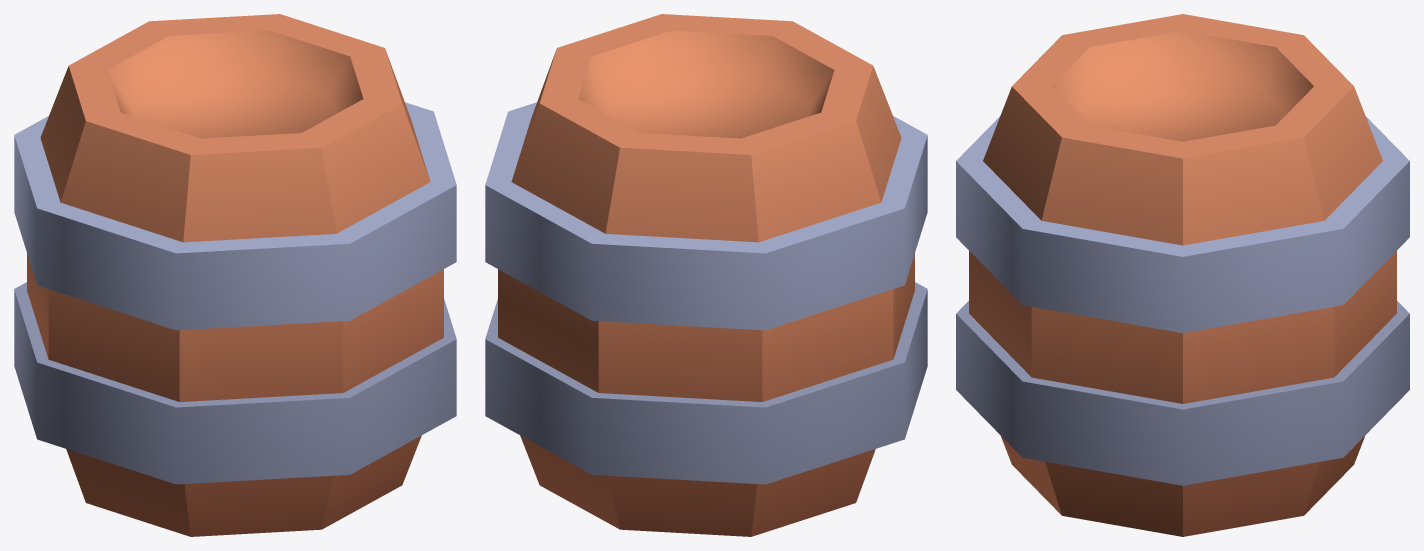
File: barrel.glb
3 renders of one model, left to right at view 1: azimuth 30°, elevation 25°; view 2: azimuth 150°, elevation 25°; view 3: azimuth 270°, elevation 25°, orthographic.
Visible parts, largest first — view 1: barrel; view 2: barrel; view 3: barrel.
Part boxes in pixels (x1,y1,x2,y2): barrel: (14, 14, 456, 536); barrel: (485, 14, 927, 536); barrel: (956, 14, 1409, 536).
Size of the model in its own units: 1.34 by 1.23 by 1.34.
Materials: 1 (1 with a texture image).
